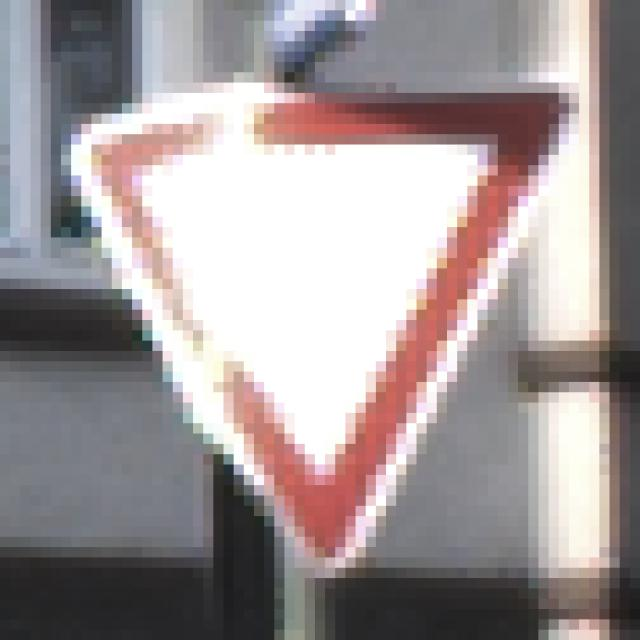Give Way: (62, 63, 590, 589)
